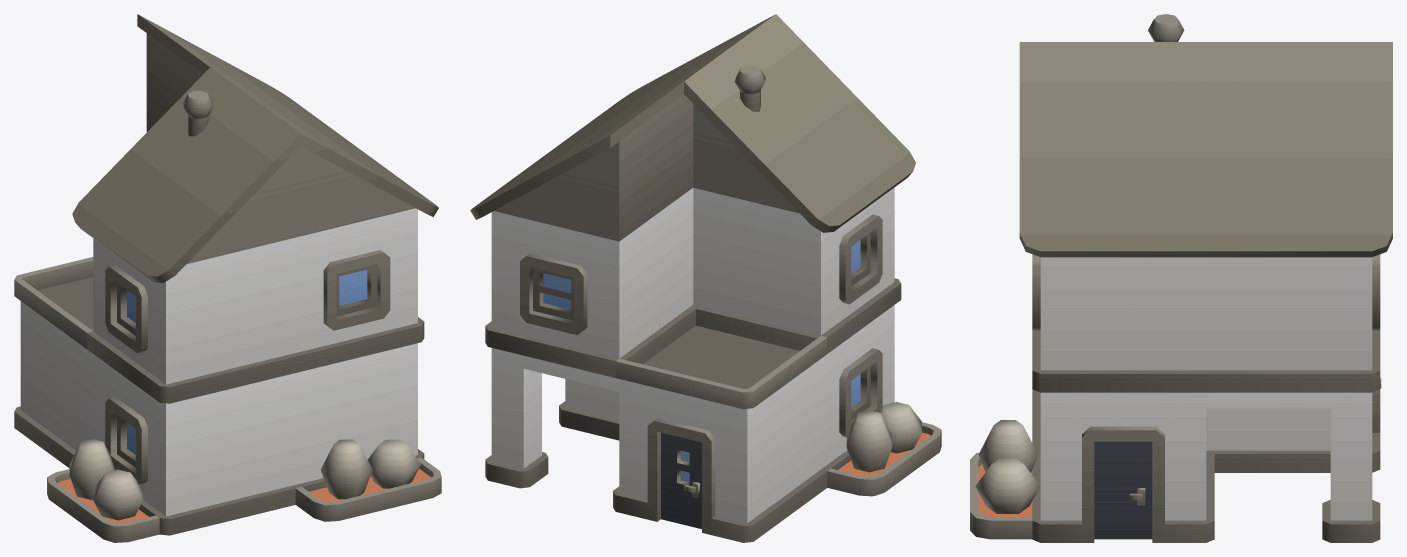
File: sub-building-type-r.glb
The picture shows the model from 3 angles, left to right: view 1: azimuth 30°, elevation 25°; view 2: azimuth 150°, elevation 25°; view 3: azimuth 270°, elevation 25°; orthographic projection. The views are drawn at different scales.
Parts seen in each view (by area): view 1: building-type-r; view 2: building-type-r; view 3: building-type-r.
Boxes of the visible parts, x1,y1,x2,y2 form: building-type-r: [14, 14, 441, 542]; building-type-r: [470, 14, 941, 542]; building-type-r: [970, 14, 1392, 542].
Size of the model in its own units: 1.03 by 1.14 by 1.02.
Materials: 1 (1 with a texture image).
